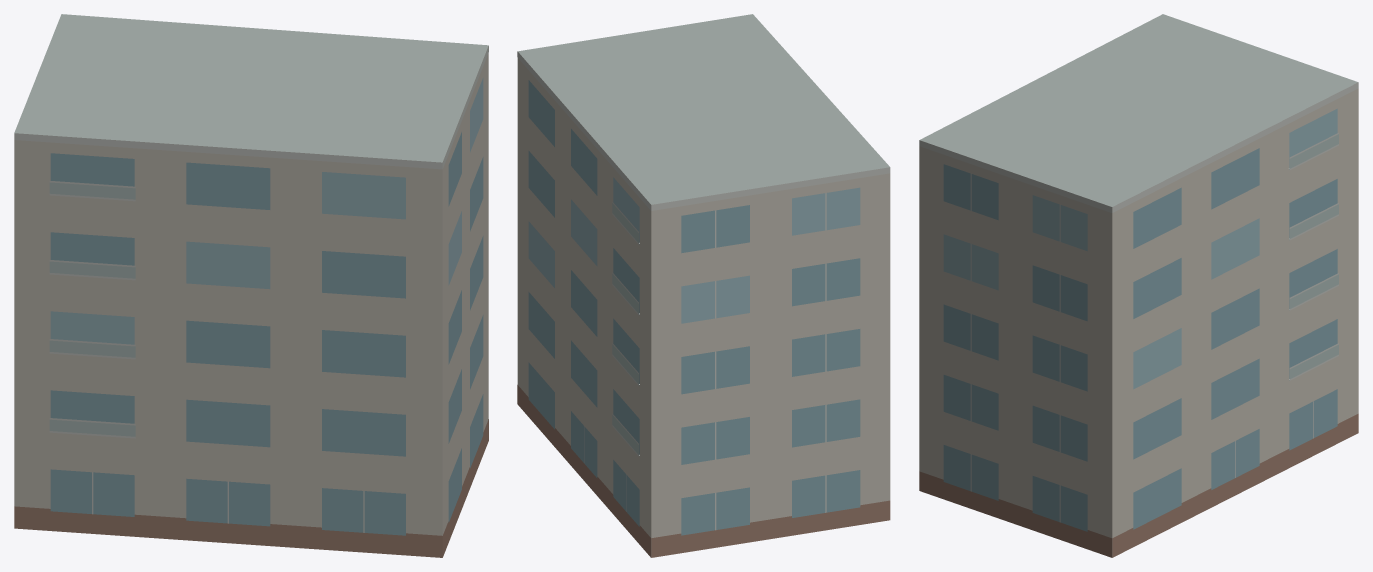
Rendered from survey-upis-32659443.glb.
3 views of the same model, side by side, from view 1: azimuth 30°, elevation 25°; view 2: azimuth 150°, elevation 25°; view 3: azimuth 270°, elevation 25° (orthographic). The views are drawn at different scales.
Visible parts, largest first — view 1: survey-upis-32659443.tmp; view 2: survey-upis-32659443.tmp; view 3: survey-upis-32659443.tmp.
Part boxes in pixels (x1,y1,x2,y2): survey-upis-32659443.tmp: [14, 14, 488, 557]; survey-upis-32659443.tmp: [517, 14, 890, 557]; survey-upis-32659443.tmp: [919, 14, 1358, 557].
Bounding box in the file's own units: 16.6 × 14.05 × 15.95.
